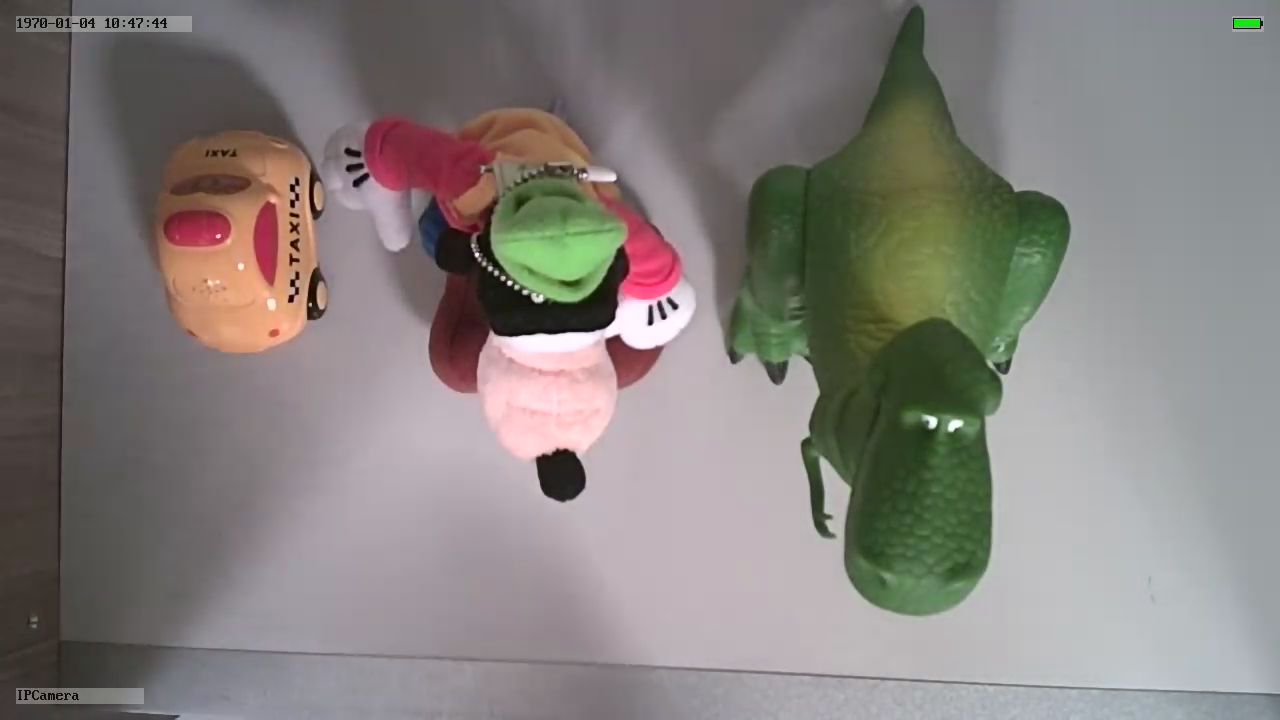goofy: (322, 101, 697, 504)
